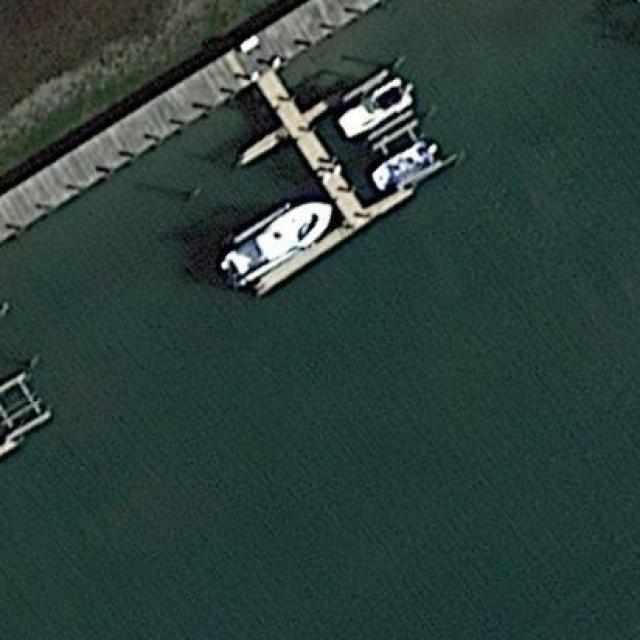ship: (224, 199, 334, 289), (336, 79, 413, 141), (371, 141, 441, 196)
